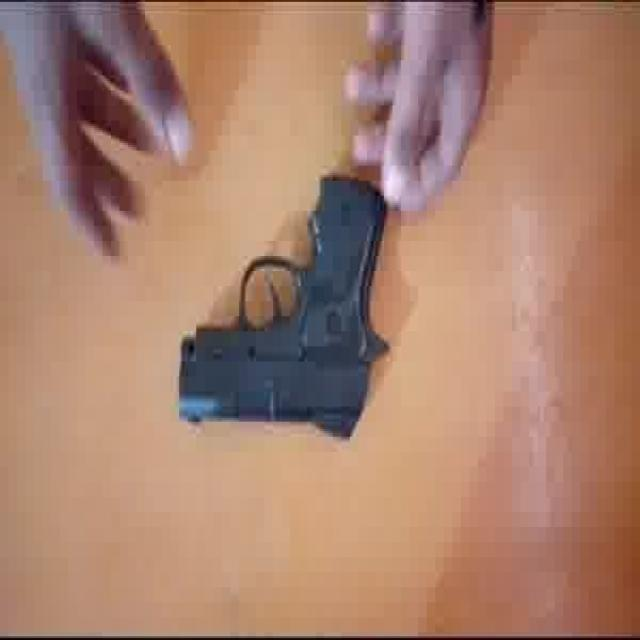weapon: (178, 172, 392, 440)
